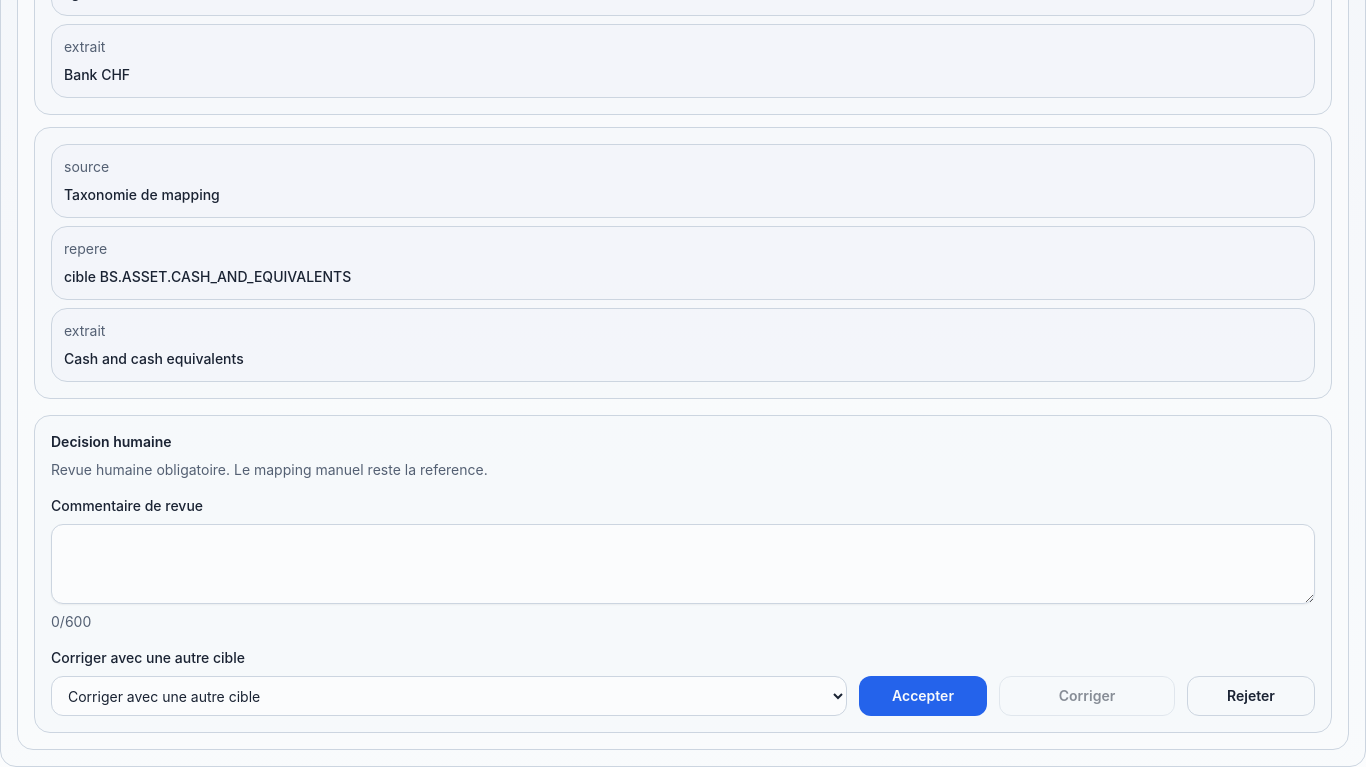
AiMappingSuggestionsPanel › sends REJECT without targetCode and records a human decision state
(page scrolled)
Type "  reject with evidence  " into the text box labelled "Commentaire de revue".
click(683, 564); type("  reject with evidence  ")  # box top-left (51, 524), bottom-right (1315, 604)
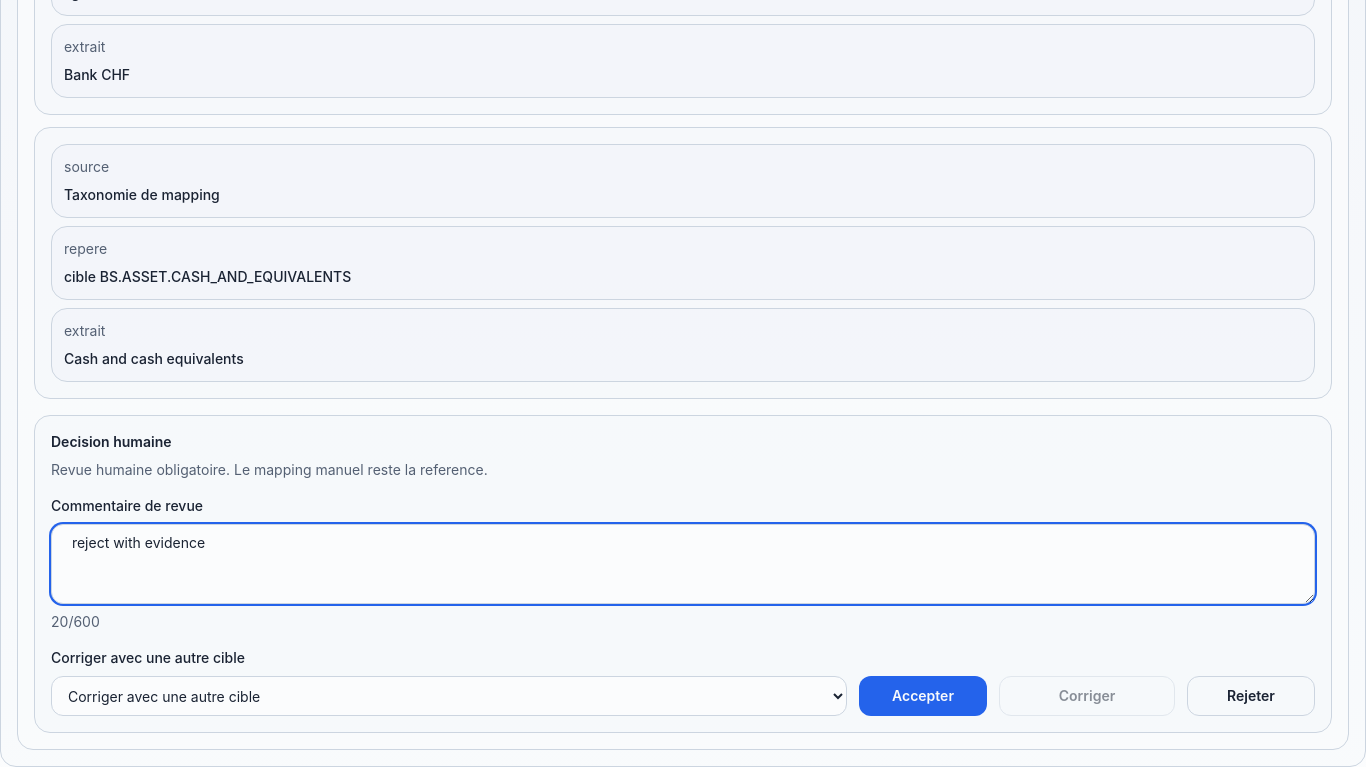
Click the button "Rejeter".
click(1251, 696)  # box top-left (1187, 676), bottom-right (1315, 716)
(page scrolled)
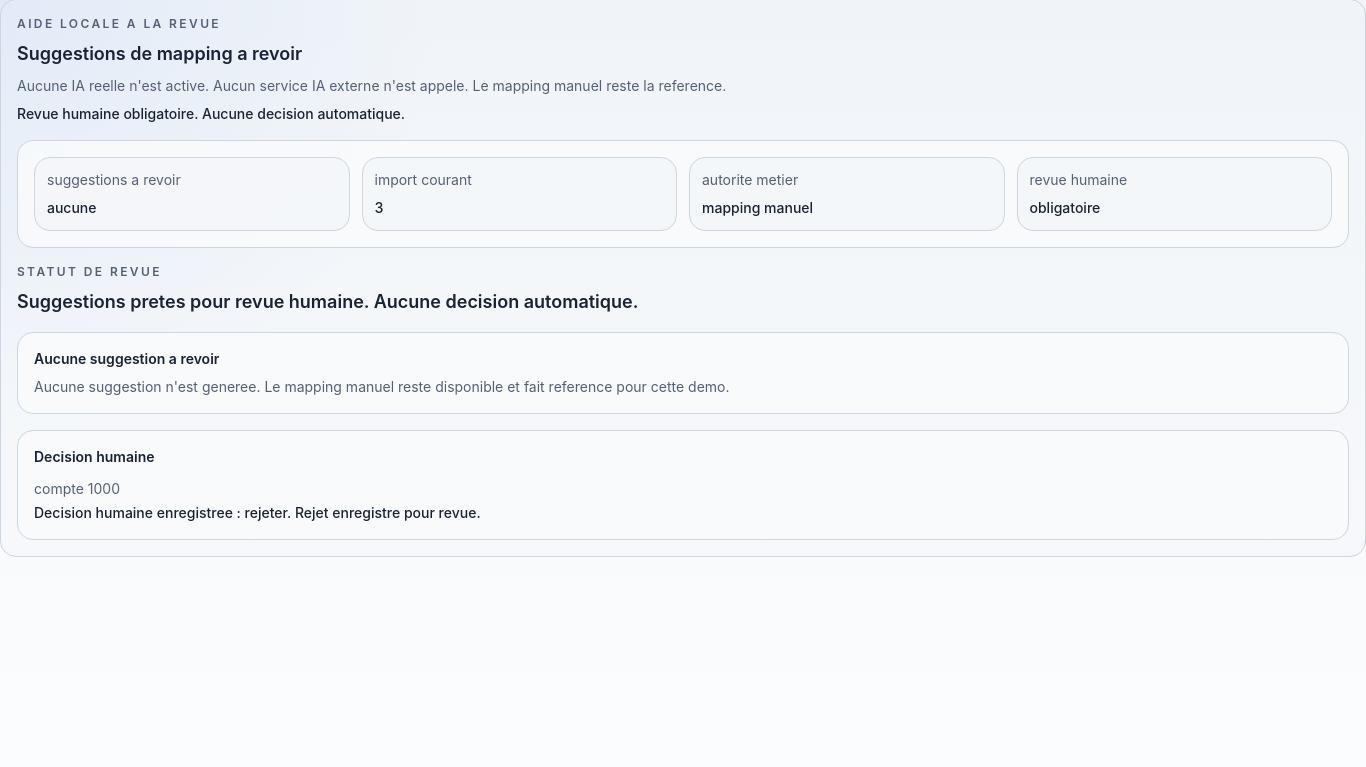
Expected: the text "Decision humaine enregistree : rejeter" is shown, top-left (34, 504), bottom-right (481, 521)
